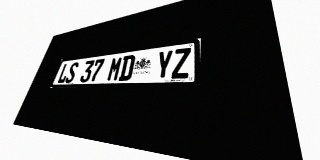3: (79, 60, 95, 83)
7: (88, 59, 105, 82)
D: (118, 55, 136, 81)
L: (56, 63, 71, 83)
M: (106, 56, 123, 81)
S: (64, 62, 80, 83)
Y: (154, 50, 173, 79)
Z: (171, 47, 191, 79)
